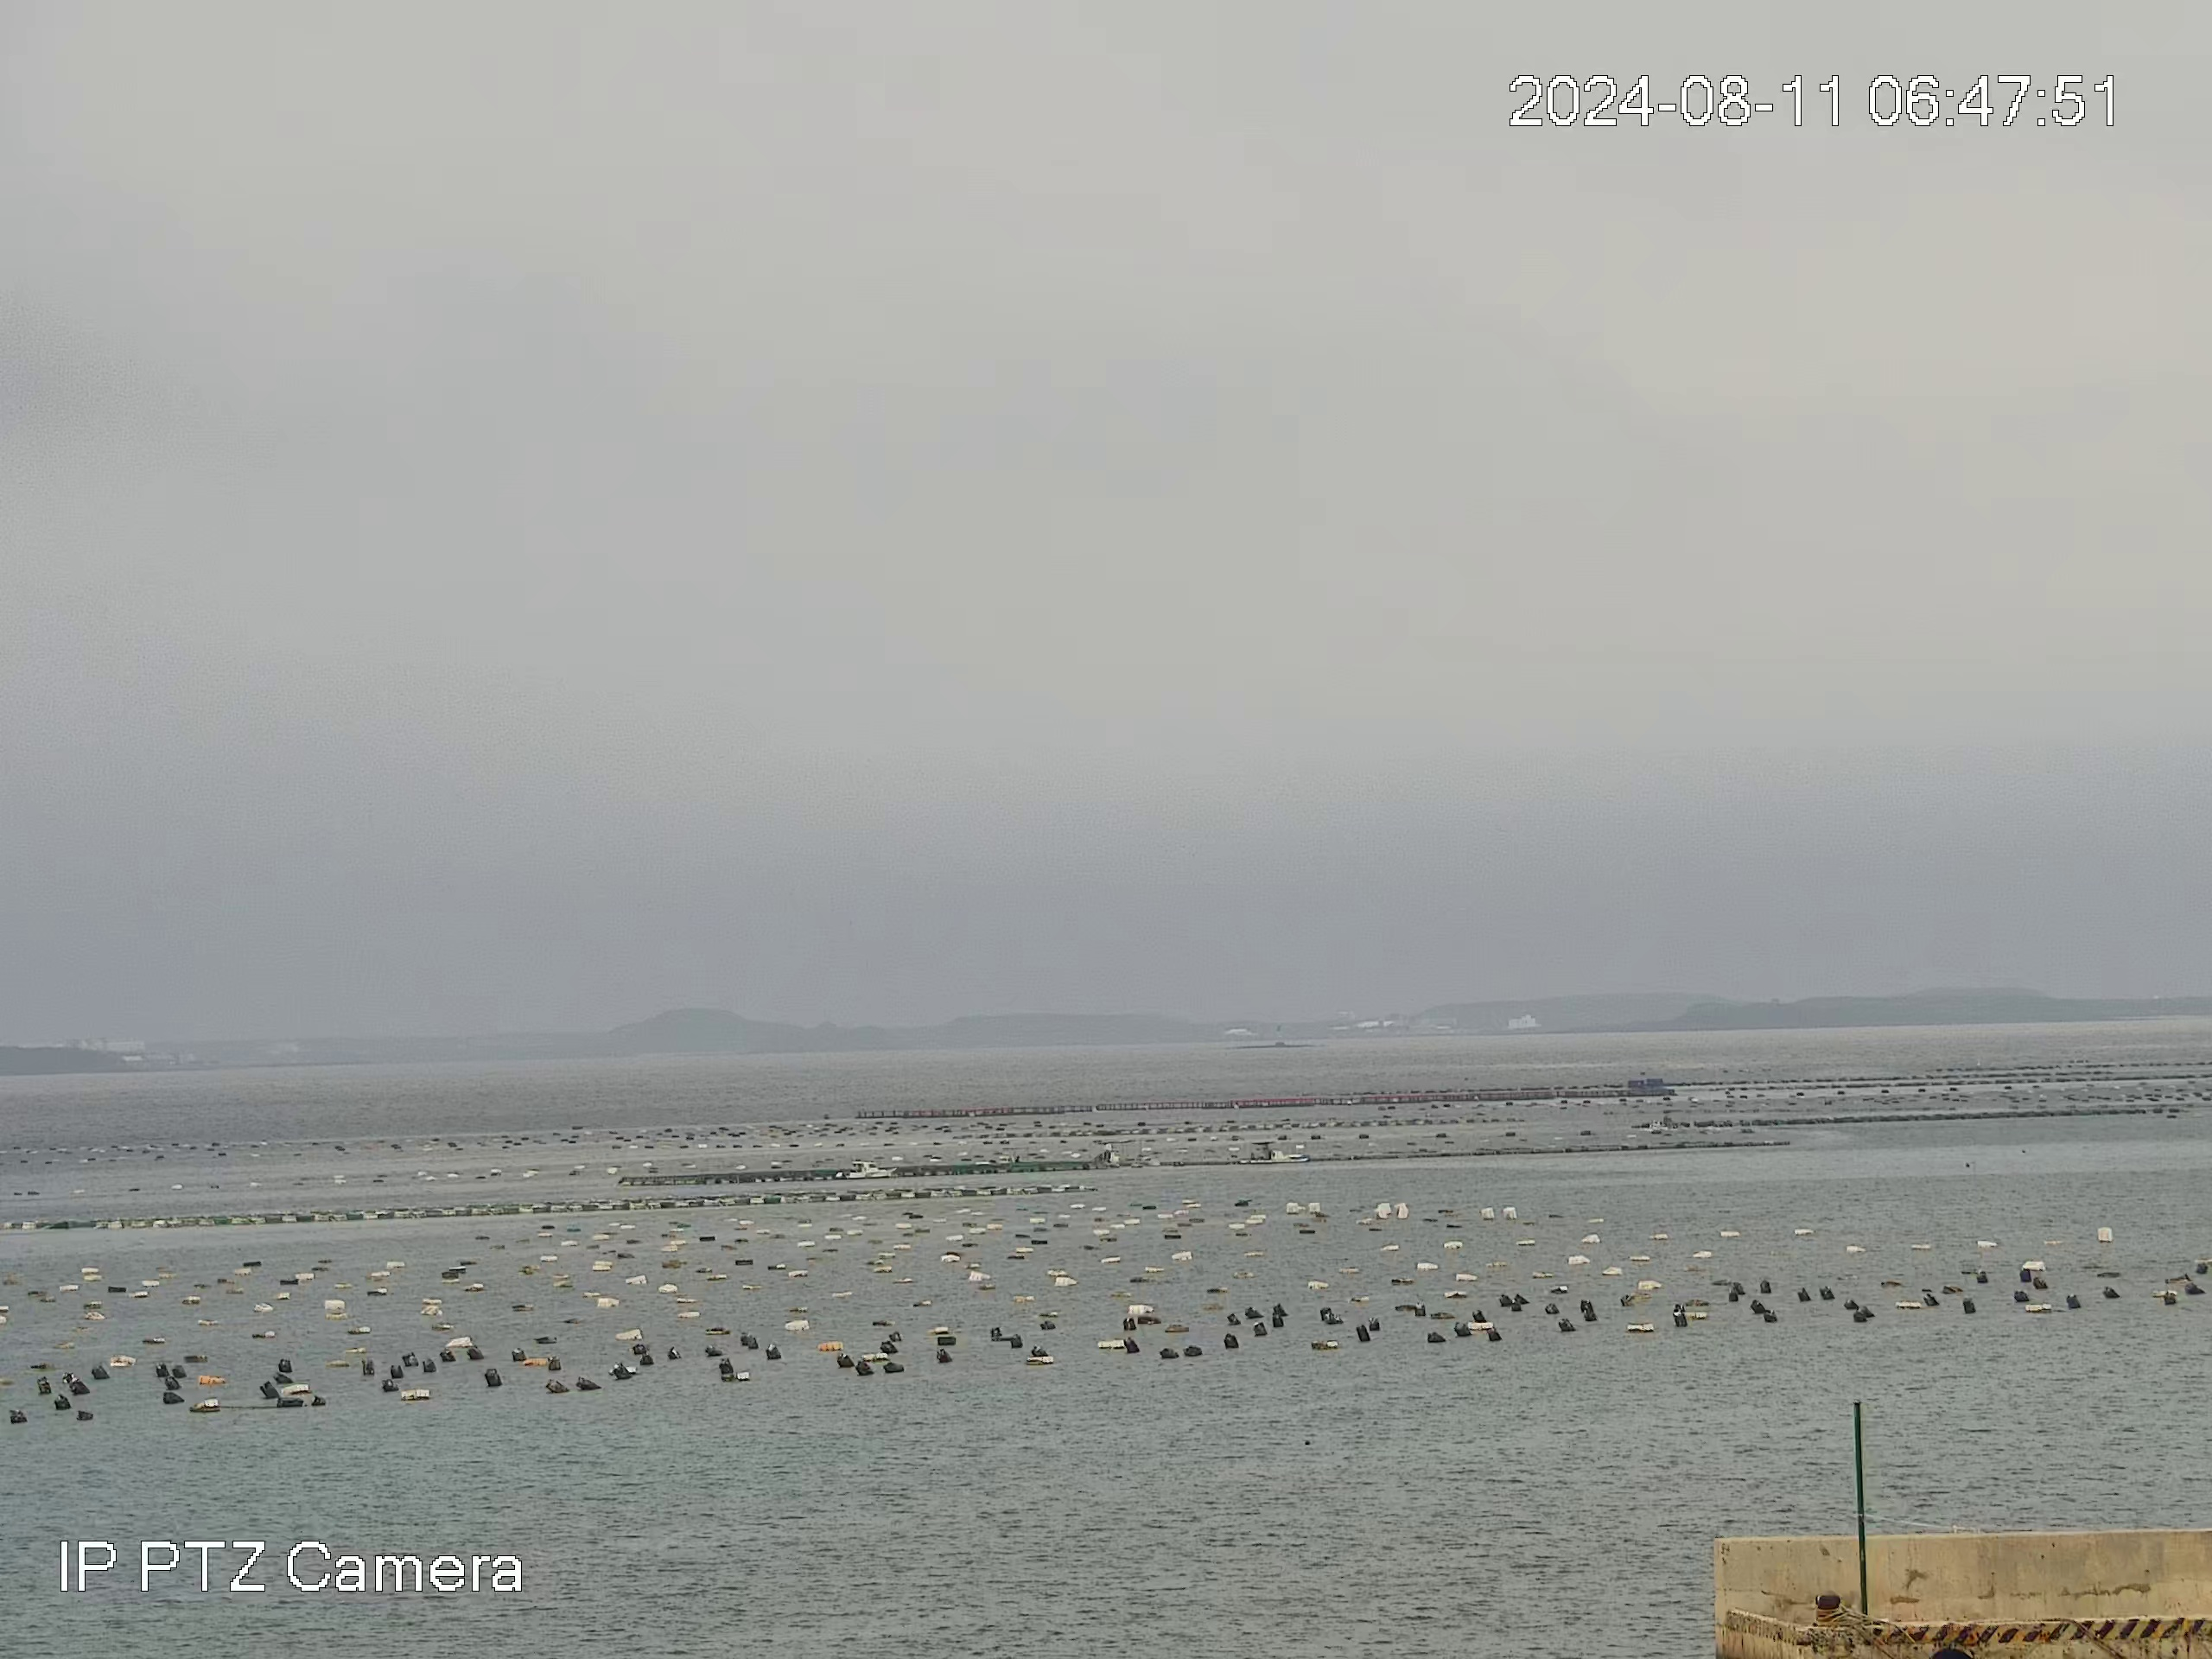boat: (1237, 1140, 1308, 1164), (833, 1159, 894, 1178)
